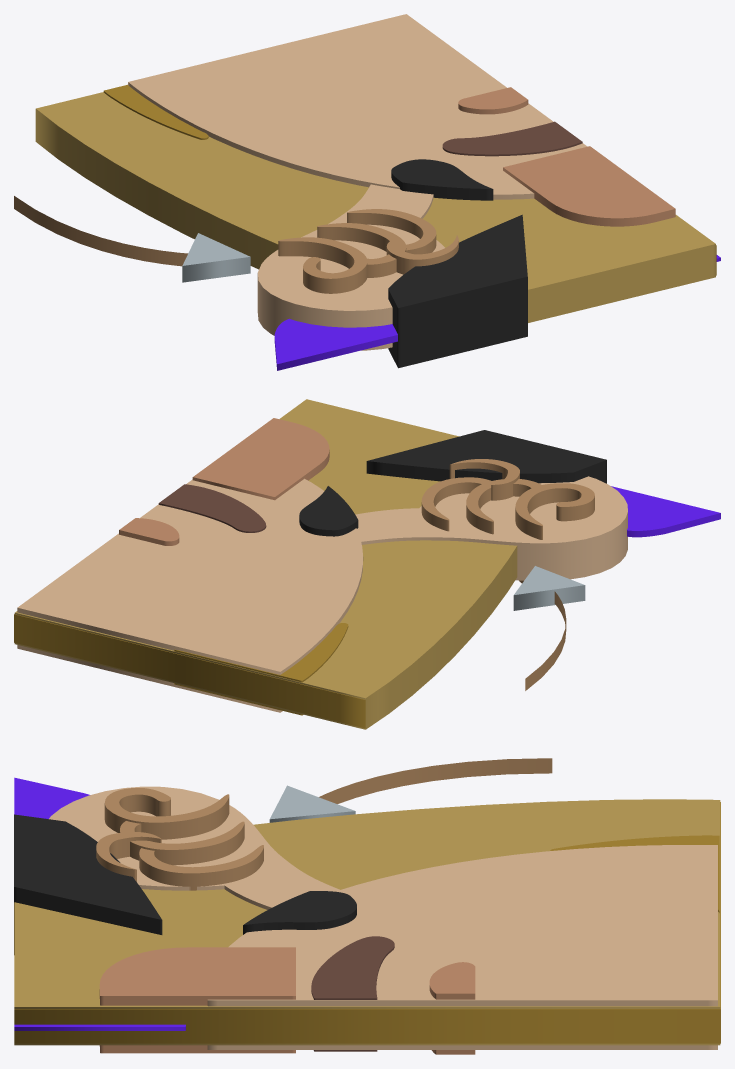
Rendered from emoji_u1f9cf_1f3fc_200d_2640.glb.
3 views of the same model, one above another, from view 1: azimuth 30°, elevation 25°; view 2: azimuth 150°, elevation 25°; view 3: azimuth 270°, elevation 25° (orthographic). The views are drawn at different scales.
Parts seen in each view (by area): view 1: emoji_u1f9cf_1f3fc_200d_2640; view 2: emoji_u1f9cf_1f3fc_200d_2640; view 3: emoji_u1f9cf_1f3fc_200d_2640.
Boxes of the visible parts, x1,y1,x2,y2 form: emoji_u1f9cf_1f3fc_200d_2640: (14,14,720,370); emoji_u1f9cf_1f3fc_200d_2640: (14,399,720,729); emoji_u1f9cf_1f3fc_200d_2640: (14,758,720,1054).
Size of the model in its own units: 0.0296 by 0.0044 by 0.0336.
